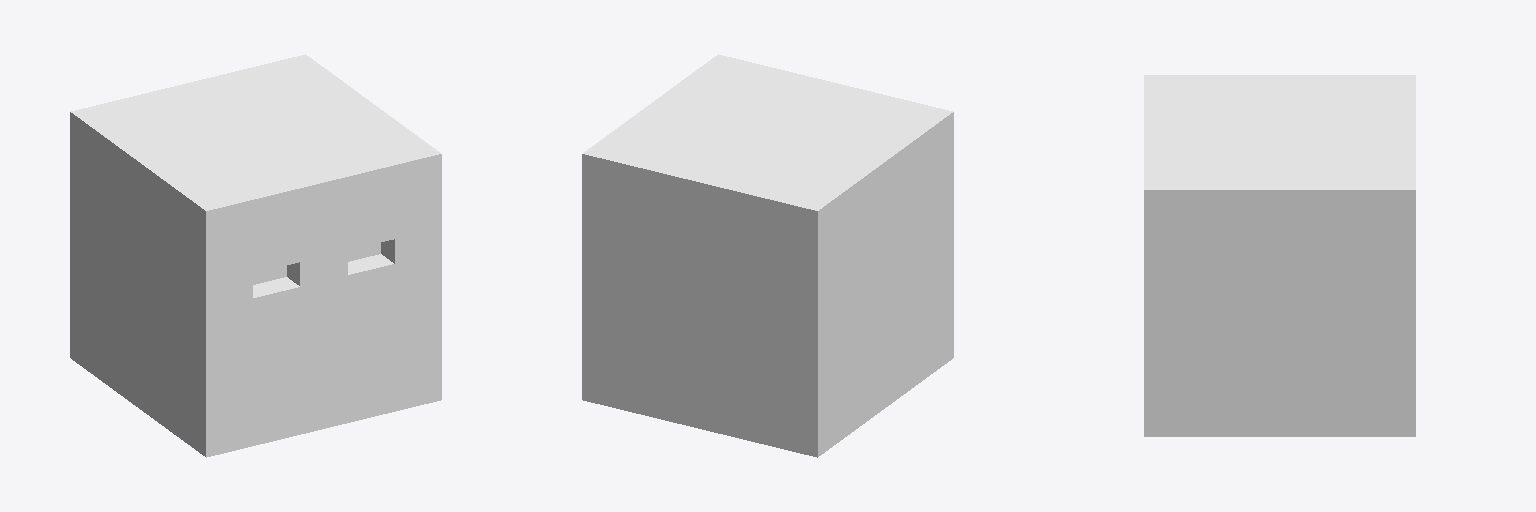
The model's file is red_slime.obj.
3 renders of one model, left to right at view 1: azimuth 30°, elevation 25°; view 2: azimuth 150°, elevation 25°; view 3: azimuth 270°, elevation 25°, orthographic.
Parts seen in each view (by area): view 1: object 1; view 2: object 1; view 3: object 1.
Boxes of the visible parts, box(x1,y1,x2,y2) form: object 1: box(70, 54, 441, 457); object 1: box(582, 54, 953, 457); object 1: box(1144, 75, 1415, 436).
Size of the model in its own units: 1 by 1 by 1.